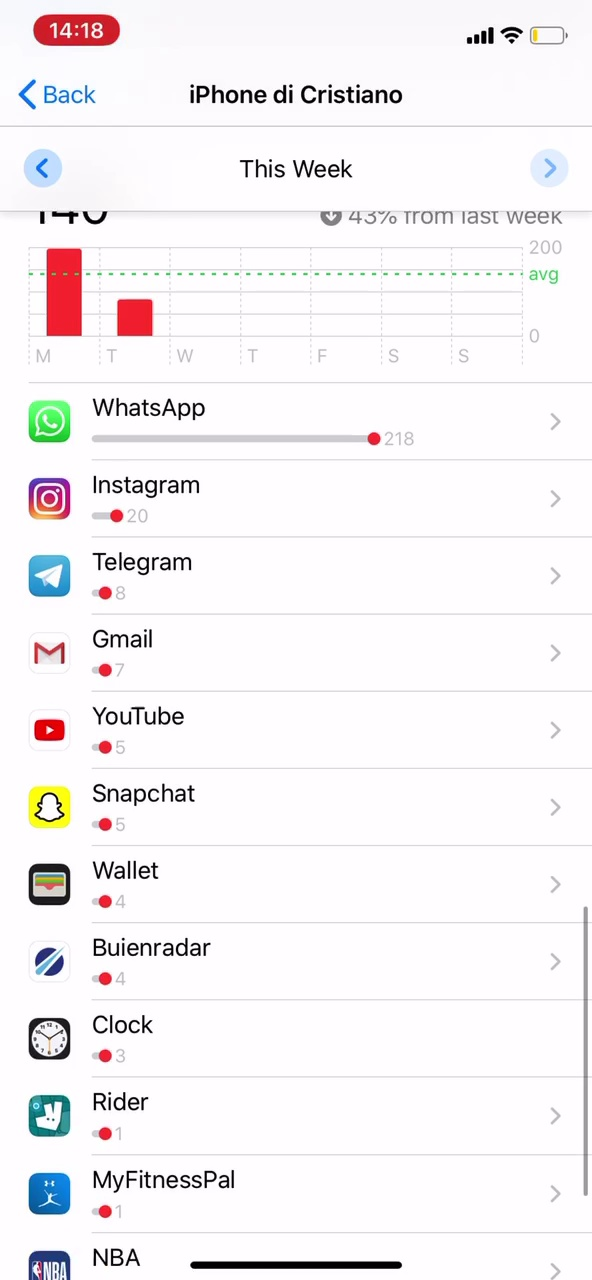not_app: (7, 383, 454, 463), (17, 1000, 303, 1080), (18, 1153, 290, 1236), (11, 464, 297, 542), (1, 769, 293, 844), (14, 925, 307, 999), (4, 692, 282, 767), (6, 844, 273, 919), (9, 549, 311, 614), (9, 621, 268, 691), (18, 1078, 254, 1152)
week: (221, 152, 372, 189)
